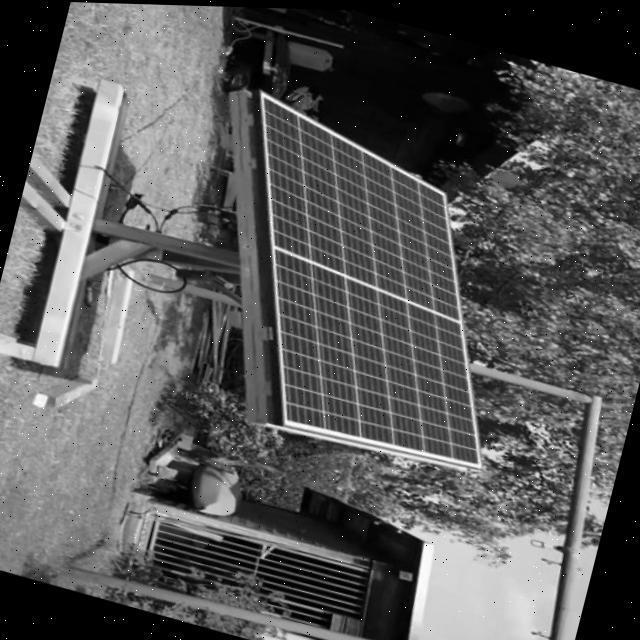Normal Solar Panel: (185, 91, 553, 476)
